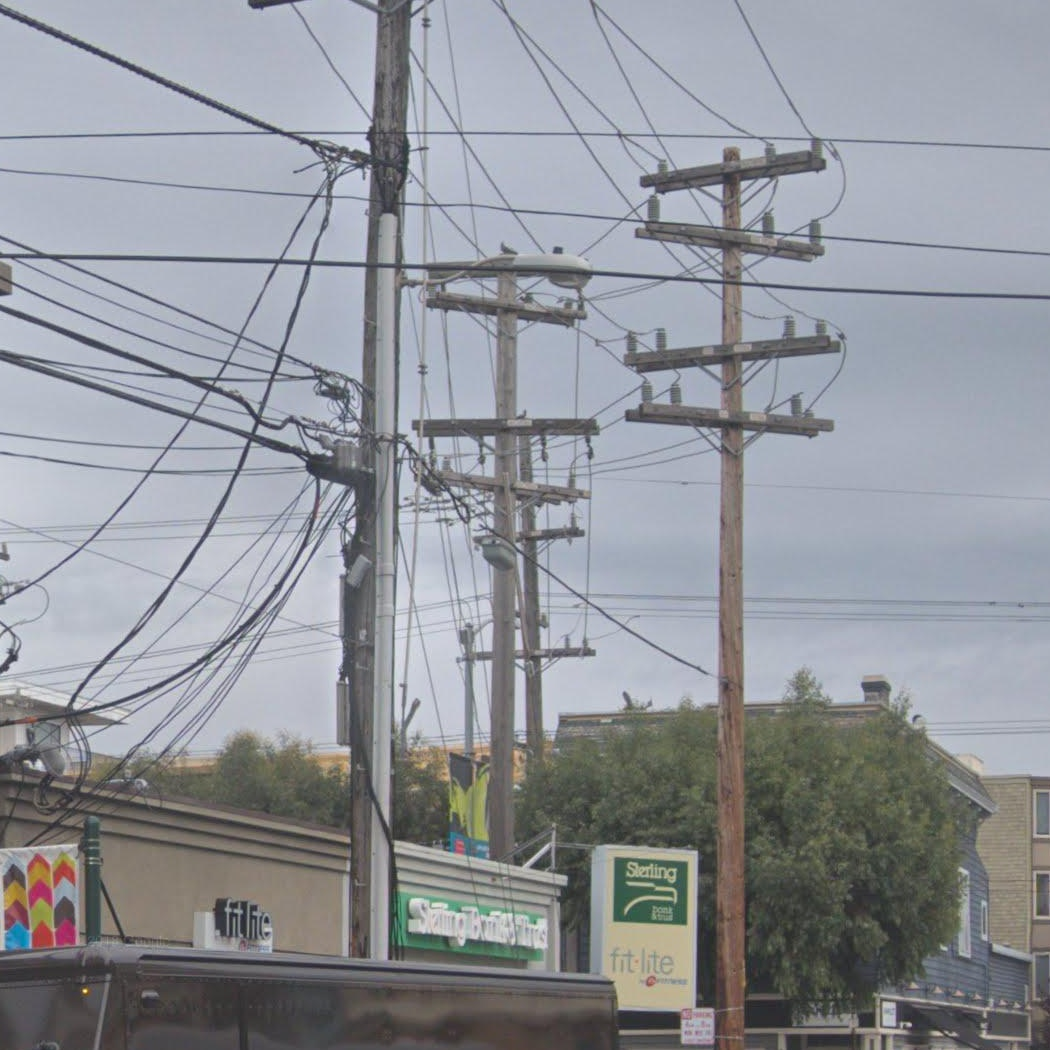No Parking: (680, 1006, 716, 1046)
